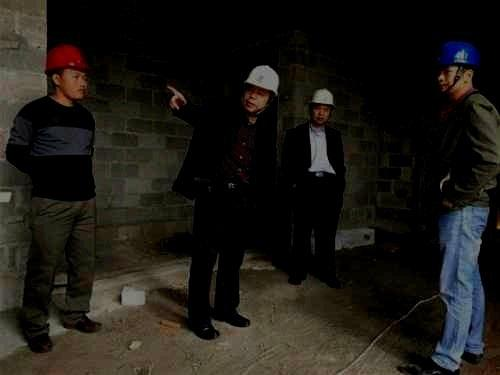helmet: (43, 44, 88, 100), (436, 42, 479, 93), (243, 64, 280, 113), (309, 89, 336, 124)
